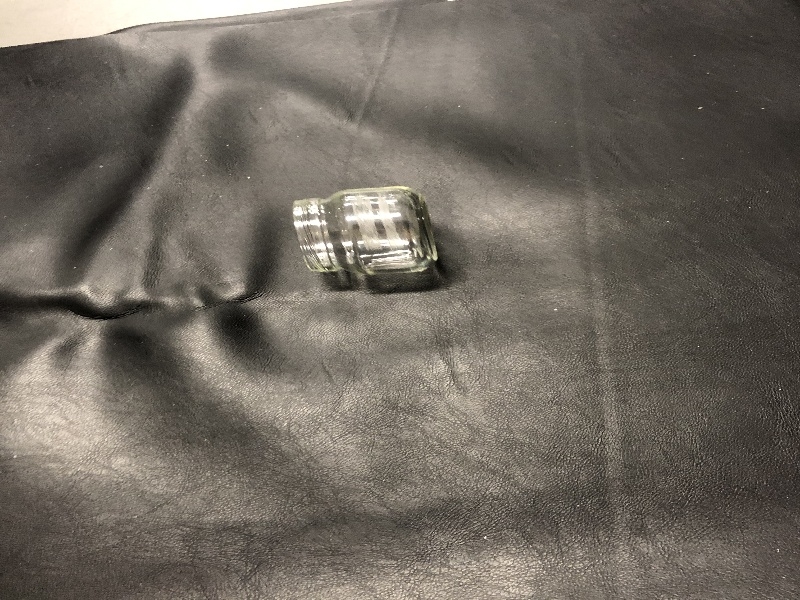glass: (283, 178, 453, 290)
